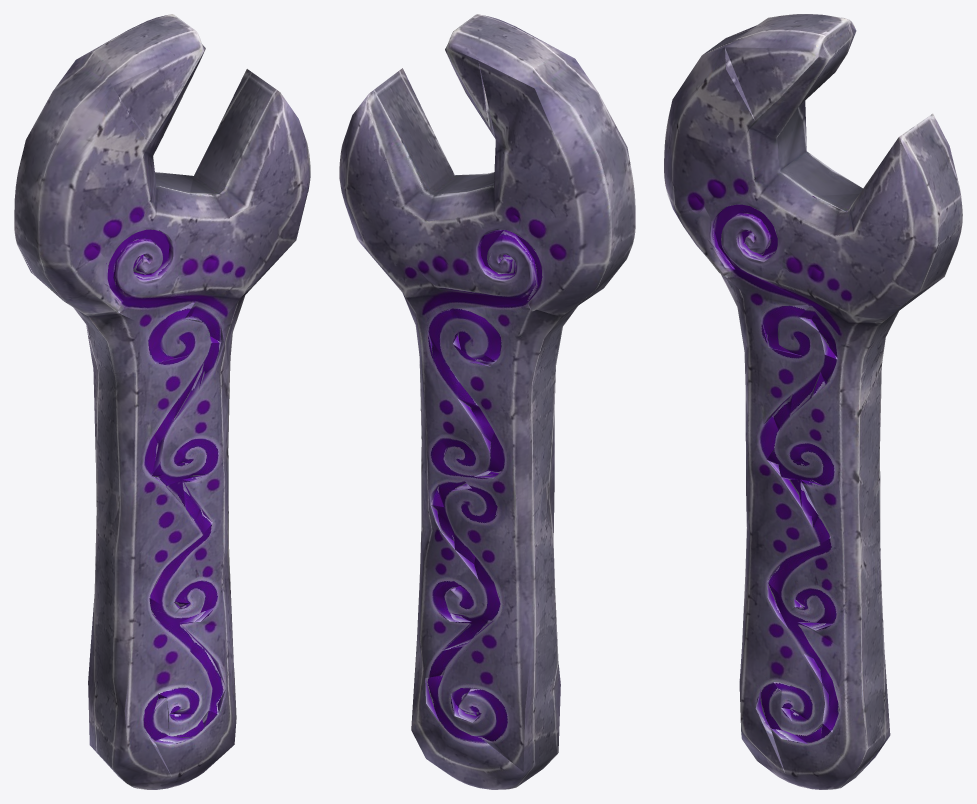
File: wrench.glb
3 views of the same model, side by side, from view 1: azimuth 30°, elevation 25°; view 2: azimuth 150°, elevation 25°; view 3: azimuth 330°, elevation 25° (orthographic).
Visible parts, largest first — view 1: Mesh_0; view 2: Mesh_0; view 3: Mesh_0.
Boxes of the visible parts, box(x1,y1,x2,y2) form: Mesh_0: box(14, 14, 310, 789); Mesh_0: box(339, 14, 635, 789); Mesh_0: box(664, 14, 962, 789).
Bounding box in the file's own units: 0.7173 × 1.9 × 0.2161.
Materials: 1 (1 with a texture image).
